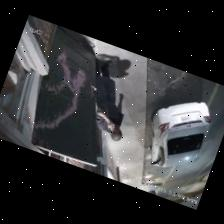person: (95, 58, 124, 140)
